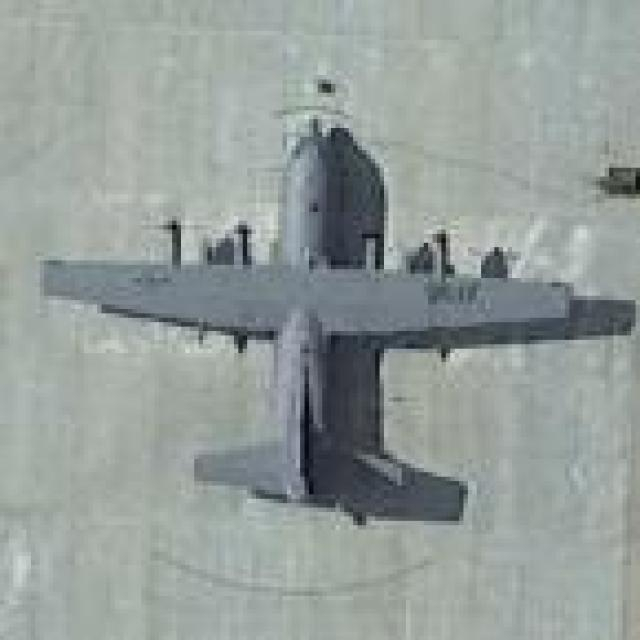C-130_TopDown: (34, 120, 638, 525)
